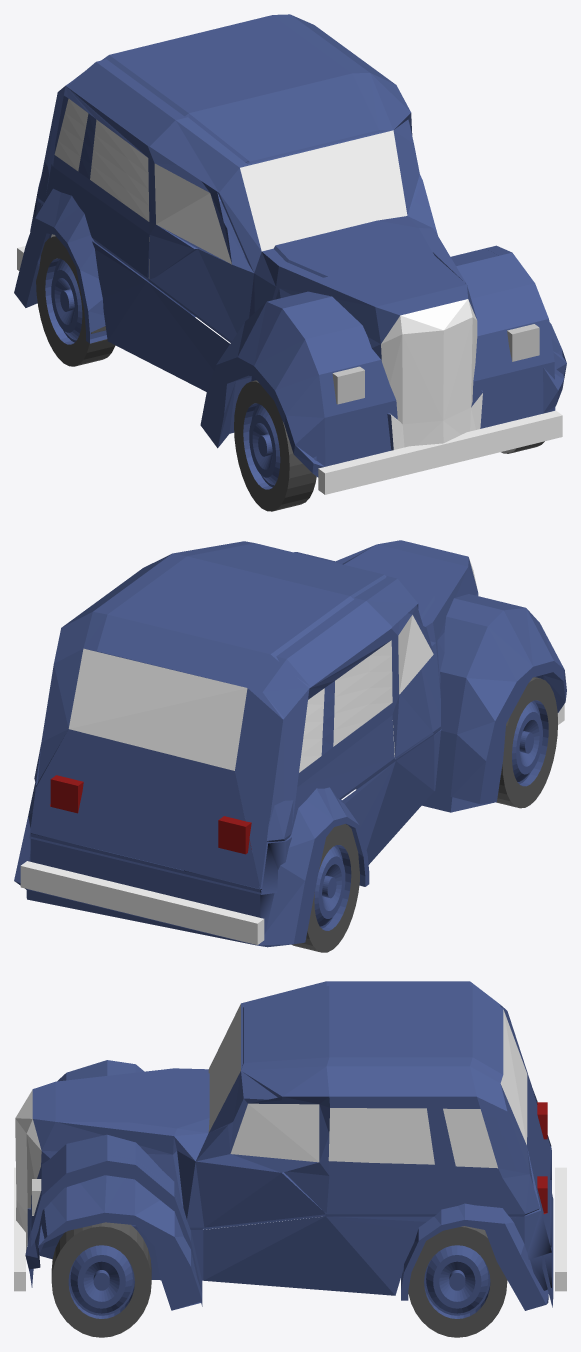
The model's file is ford-prefect-early-blue.dae.
The picture shows the model from 3 angles, top to bottom: view 1: azimuth 30°, elevation 25°; view 2: azimuth 150°, elevation 25°; view 3: azimuth 270°, elevation 25°; orthographic projection. The views are drawn at different scales.
Parts seen in each view (by area): view 1: Cube_016, Cube_017, Cube_002, Circle_007, Circle_008, Cube_463; view 2: Cube_016, Cube_017, Cube_003, Circle_007, Circle_008, Cube_001; view 3: Cube_016, Cube_017, Circle_007, Circle_008, Cube_003, Cube_002, Cube_001.
Part boxes in pixels (<box>): Cube_016: <box>30,14,482,450</box>; Cube_017: <box>14,188,566,477</box>; Cube_002: <box>318,410,562,494</box>; Circle_007: <box>234,380,544,511</box>; Circle_008: <box>36,236,115,366</box>; Cube_463: <box>332,324,539,404</box>; Cube_016: <box>29,540,478,934</box>; Cube_017: <box>14,552,566,947</box>; Cube_003: <box>20,861,264,944</box>; Circle_007: <box>496,677,557,808</box>; Circle_008: <box>292,824,359,952</box>; Cube_001: <box>50,775,251,854</box>; Cube_016: <box>15,981,551,1295</box>; Cube_017: <box>25,1060,553,1310</box>; Circle_007: <box>51,1222,151,1337</box>; Circle_008: <box>408,1226,507,1337</box>; Cube_003: <box>555,1167,566,1291</box>; Cube_002: <box>14,1167,25,1291</box>; Cube_001: <box>537,1102,547,1213</box>.
Bounding box in the file's own units: 1.14 × 2.2 × 1.14.
